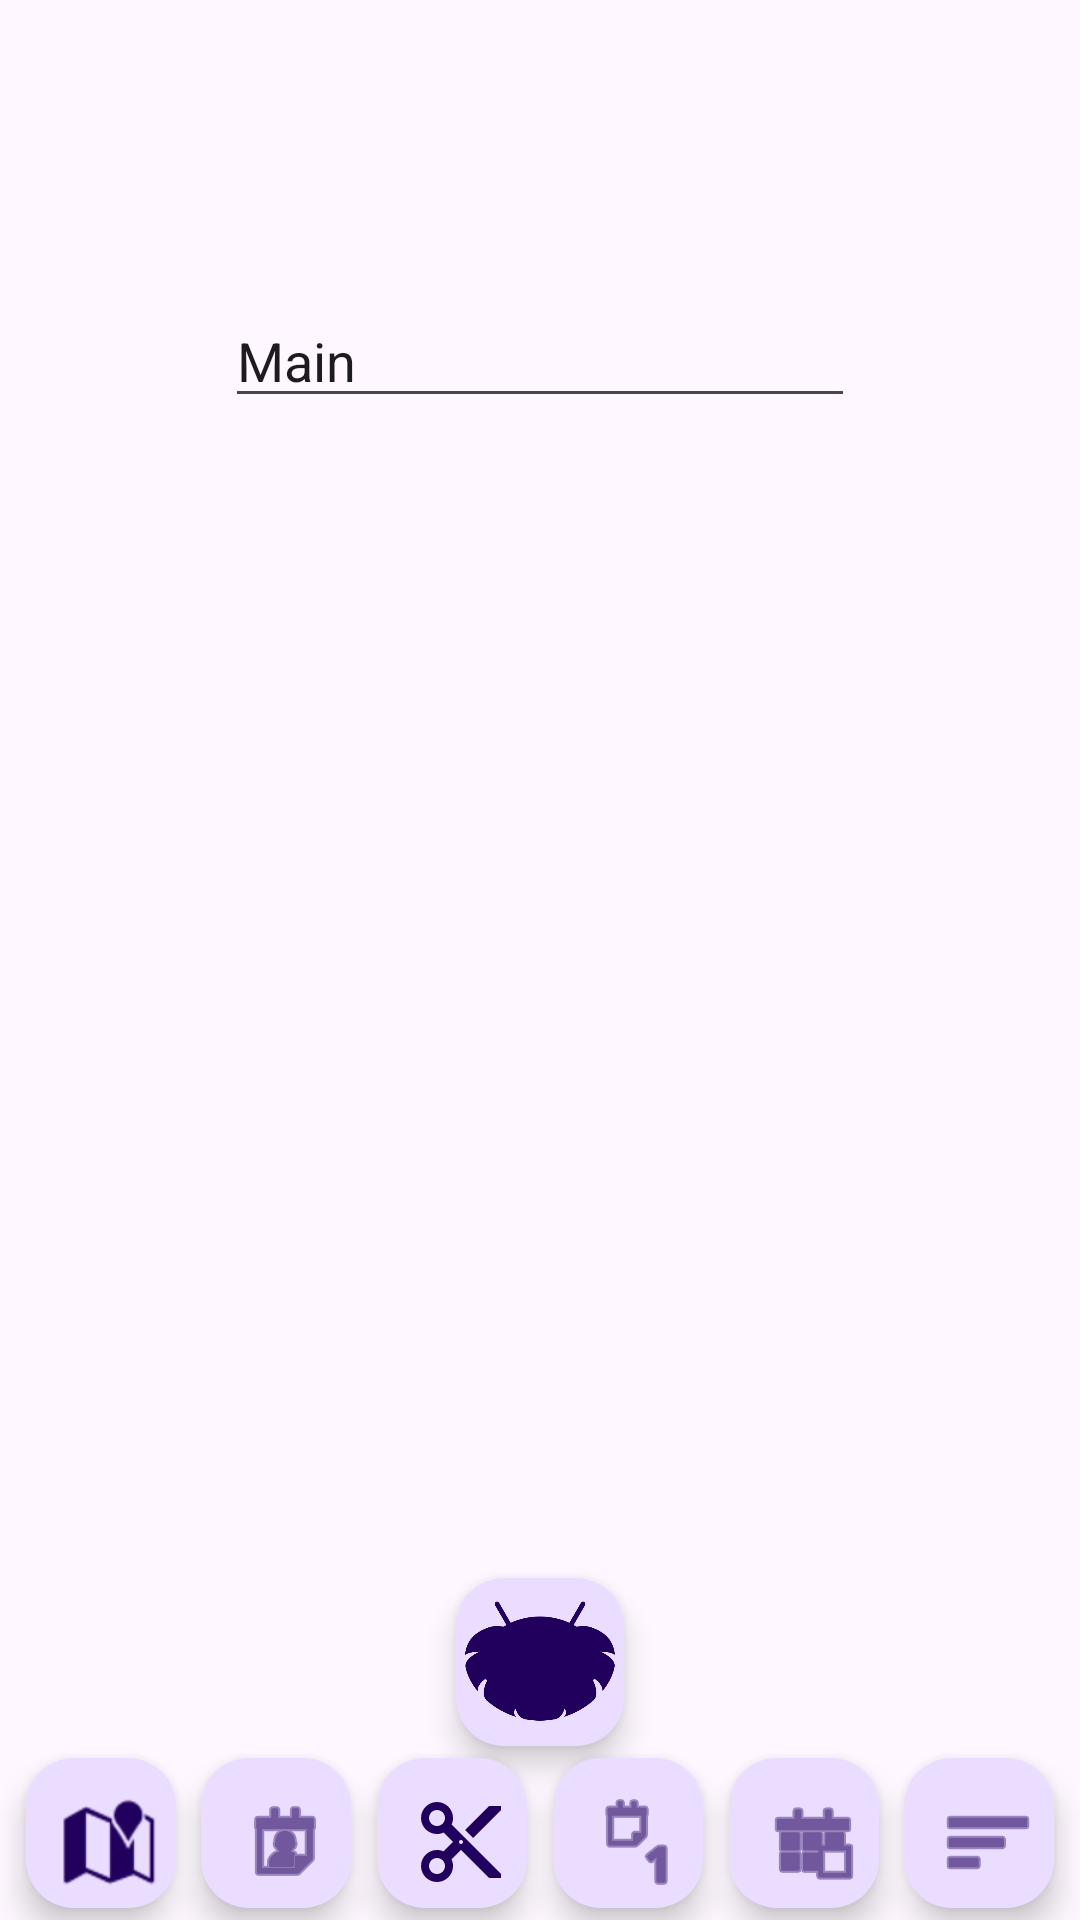

Icons on this 1080*1920 Android screen, each with its box as BBox(x1, y1, x2, y2):
Location: BBox(26, 1758, 176, 1908)
Order Scheduled: BBox(729, 1758, 879, 1908)
Professional: BBox(201, 1758, 351, 1908)
Service: BBox(377, 1758, 527, 1908)
